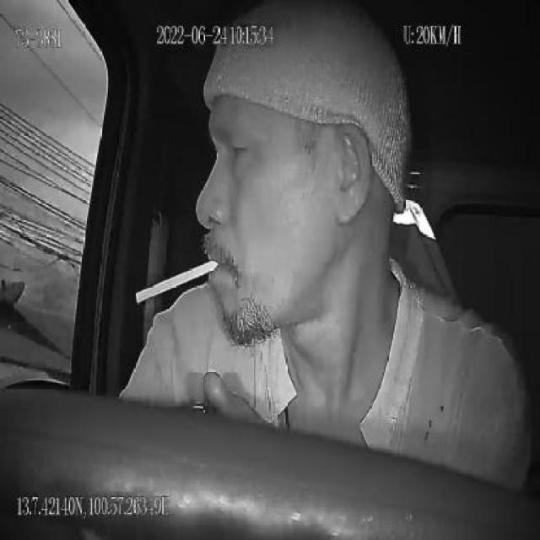smoking: (134, 257, 220, 307)
